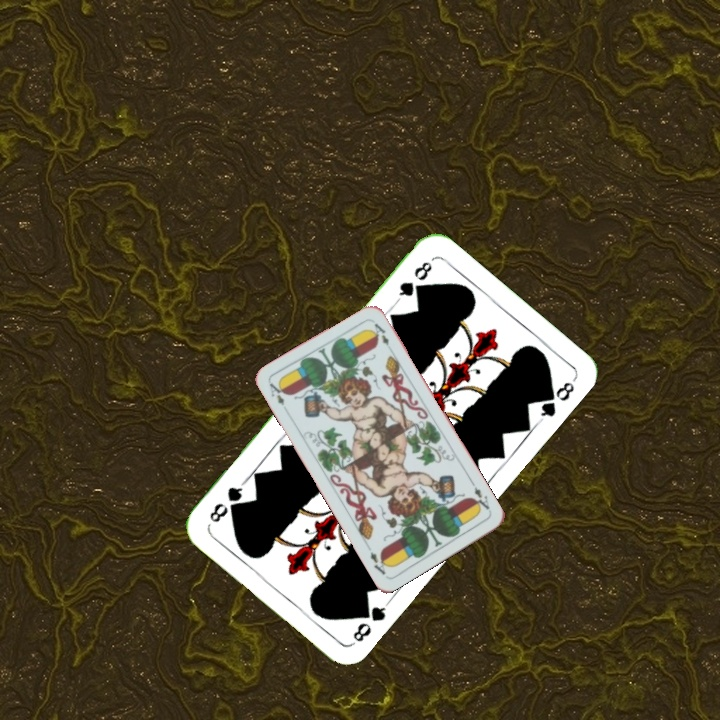EA: (467, 478, 494, 515), (265, 379, 288, 408)
G8: (348, 598, 392, 647), (393, 257, 435, 304)
